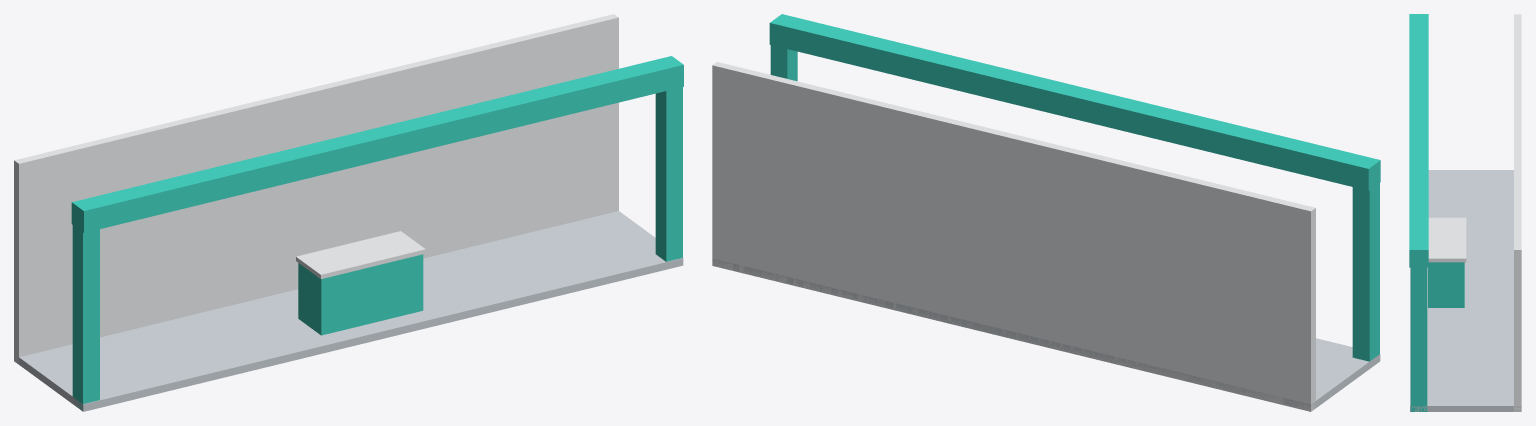
3 views of the same model, side by side, from view 1: azimuth 30°, elevation 25°; view 2: azimuth 150°, elevation 25°; view 3: azimuth 270°, elevation 25° (orthographic). The views are drawn at different scales.
Visible parts, largest first — view 1: Exhibition Booth Concept; view 2: Exhibition Booth Concept; view 3: Exhibition Booth Concept.
Boxes of the visible parts, left/top/right/bottom form: Exhibition Booth Concept: left=14, top=14, right=683, bottom=411; Exhibition Booth Concept: left=712, top=14, right=1380, bottom=411; Exhibition Booth Concept: left=1409, top=14, right=1521, bottom=411.
Bounding box in the file's own units: 10 × 3.2 × 2.01.
